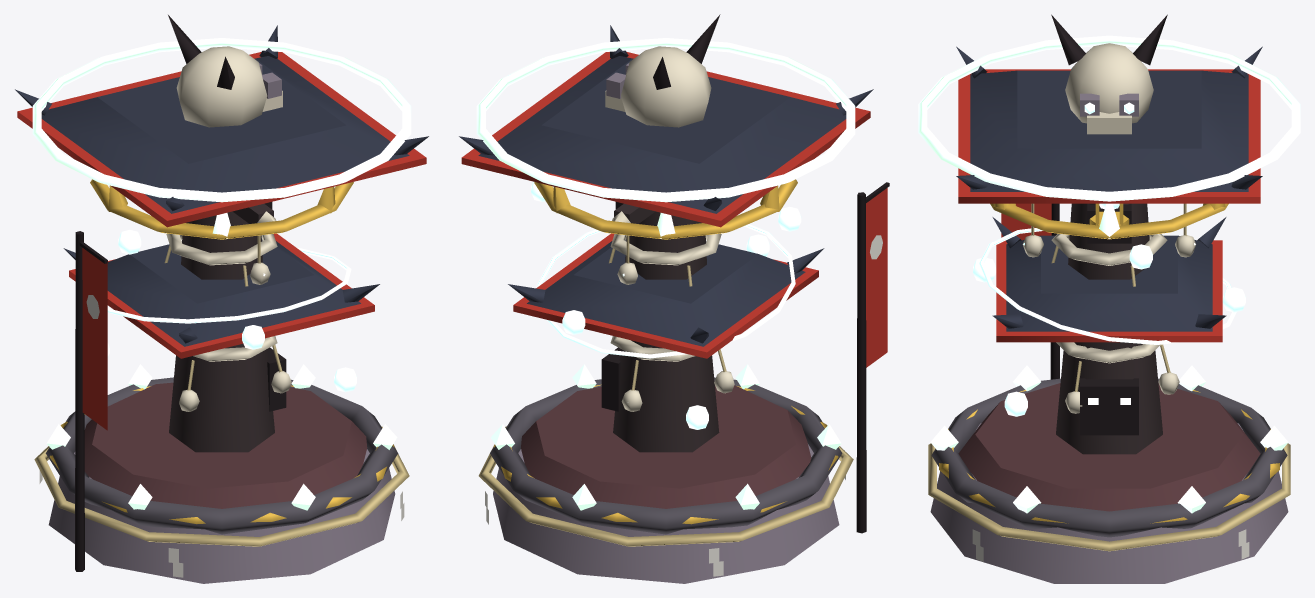
File: tower_necromancer_soulLegion_ultimate.glb
3 renders of one model, left to right at view 1: azimuth 30°, elevation 25°; view 2: azimuth 150°, elevation 25°; view 3: azimuth 270°, elevation 25°, orthographic.
Parts seen in each view (by area): view 1: deco_eave_0_roof, grave_soil, base, deco_eave_1_roof, base_rim, ult_halo, pole_0, deco_eave_0_rim, skull_cranium, deco_shimenawa_rope, deco_nobori_cloth, deco_eave_1_rim (+11 smaller); view 2: deco_eave_0_roof, grave_soil, deco_eave_1_roof, base, base_rim, ult_halo, pole_0, deco_eave_0_rim, skull_cranium, deco_shimenawa_rope, deco_eave_1_rim, deco_nobori_cloth (+11 smaller); view 3: deco_eave_0_roof, grave_soil, base, deco_eave_1_roof, base_rim, ult_halo, pole_0, deco_eave_0_rim, deco_shimenawa_rope, skull_cranium, deco_eave_1_rim, pole_face_0 (+18 smaller).
Part boxes in pixels (left/top/right/bottom): deco_eave_0_roof: left=41, top=56, right=409, bottom=213; grave_soil: left=84, top=382, right=367, bottom=508; base: left=48, top=449, right=395, bottom=583; deco_eave_1_roof: left=107, top=238, right=360, bottom=346; base_rim: left=45, top=377, right=398, bottom=534; ult_halo: left=32, top=38, right=411, bottom=202; pole_0: left=169, top=349, right=274, bottom=452; deco_eave_0_rim: left=17, top=52, right=426, bottom=227; skull_cranium: left=176, top=46, right=267, bottom=127; deco_shimenawa_rope: left=34, top=426, right=409, bottom=546; deco_nobori_cloth: left=82, top=248, right=107, bottom=430; deco_eave_1_rim: left=69, top=233, right=374, bottom=358; deco_eave_0_roof: left=478, top=56, right=846, bottom=213; grave_soil: left=521, top=385, right=811, bottom=508; deco_eave_1_roof: left=527, top=239, right=805, bottom=346; base: left=493, top=444, right=839, bottom=583; base_rim: left=490, top=377, right=842, bottom=534; ult_halo: left=476, top=38, right=855, bottom=202; pole_0: left=613, top=349, right=719, bottom=452; deco_eave_0_rim: left=461, top=52, right=870, bottom=227; skull_cranium: left=621, top=46, right=711, bottom=127; deco_shimenawa_rope: left=478, top=426, right=853, bottom=546; deco_eave_1_rim: left=513, top=233, right=818, bottom=358; deco_nobori_cloth: left=866, top=188, right=887, bottom=367; deco_eave_0_roof: left=970, top=70, right=1248, bottom=191; grave_soil: left=958, top=383, right=1260, bottom=511; base: left=930, top=423, right=1288, bottom=583; deco_eave_1_roof: left=1006, top=235, right=1212, bottom=331; base_rim: left=931, top=378, right=1287, bottom=537; ult_halo: left=918, top=35, right=1300, bottom=201; pole_0: left=1056, top=350, right=1162, bottom=454; deco_eave_0_rim: left=958, top=69, right=1260, bottom=203; deco_shimenawa_rope: left=928, top=443, right=1290, bottom=551; skull_cranium: left=1065, top=43, right=1153, bottom=123; deco_eave_1_rim: left=996, top=240, right=1222, bottom=342; pole_face_0: left=1080, top=378, right=1138, bottom=435.
Bounding box in the file's own units: 0.4427 × 0.5985 × 0.4274.
